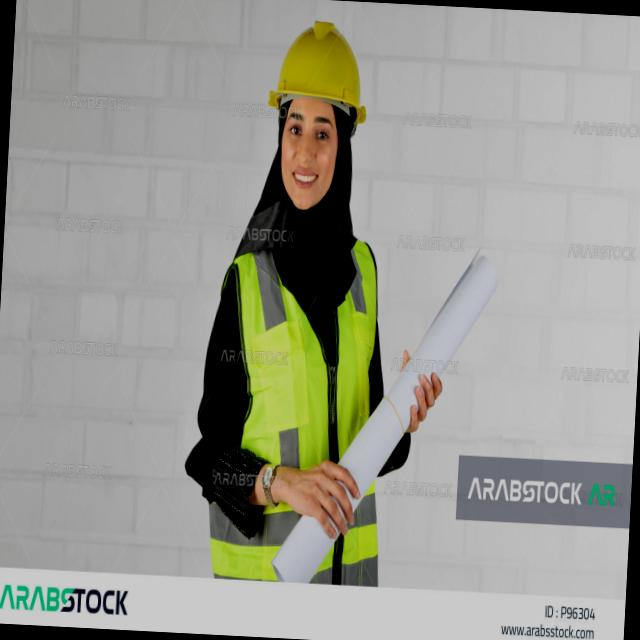helmet: (262, 15, 372, 134)
no-goggles: (287, 111, 335, 152)
vest: (212, 232, 400, 590)
